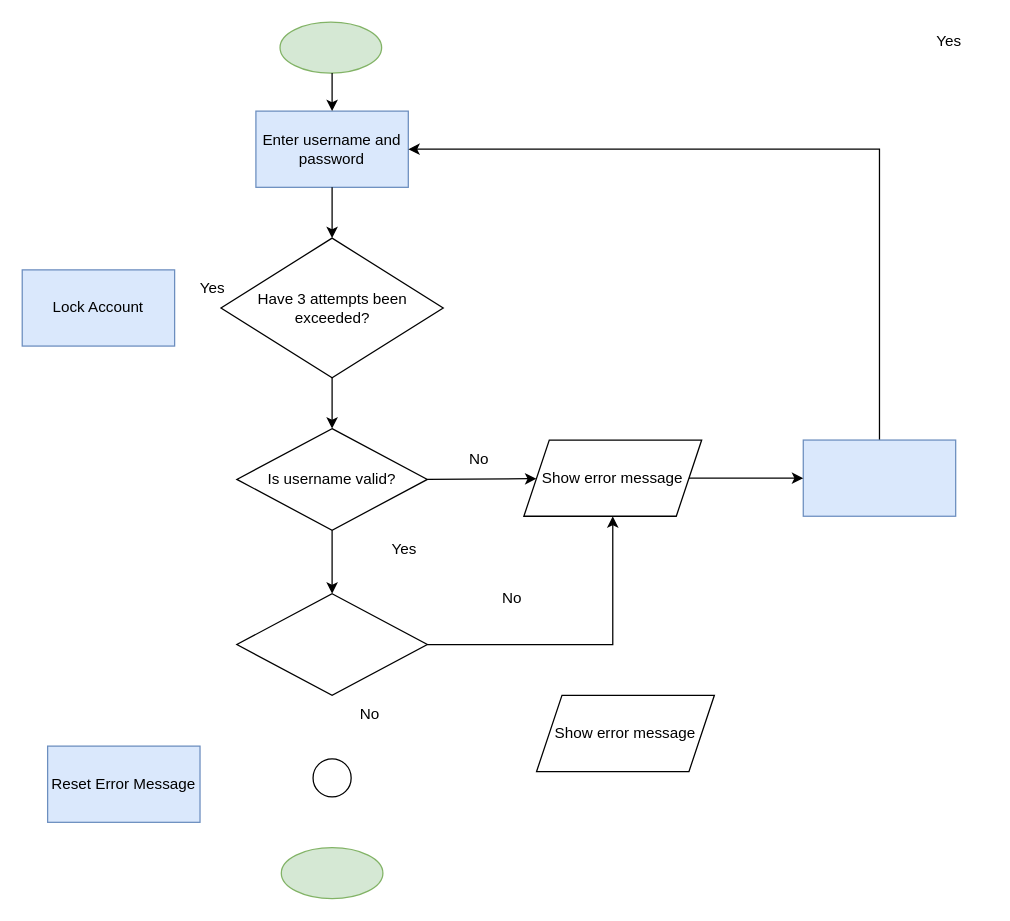
The diagram is 1010 pixels wide and 921 high, and some of its shapes have lost their labels. Each missing label, with the centre of its shape:
"End" belongs at point 331,872.
"Increment attempt" belongs at point 879,477.
"Is password correct?" belongs at point 331,643.
"Start" belongs at point 330,47.
